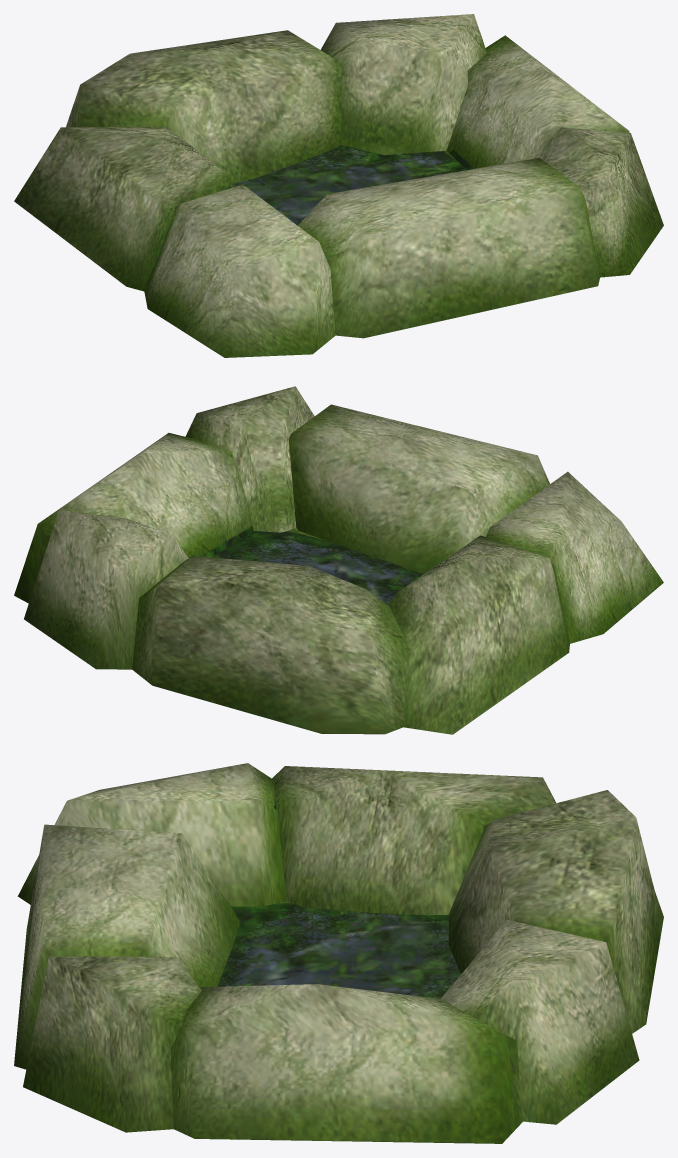
File: stwe3.dae
3 views of the same model, one above another, from view 1: azimuth 30°, elevation 25°; view 2: azimuth 150°, elevation 25°; view 3: azimuth 270°, elevation 25° (orthographic). The views are drawn at different scales.
Visible parts, largest first — view 1: well00; view 2: well00; view 3: well00.
Part boxes in pixels (x1,y1,x2,y2): well00: [14, 14, 663, 357]; well00: [14, 386, 663, 734]; well00: [14, 763, 663, 1143].
Bounding box in the file's own units: 2.07 × 1.94 × 0.4409.
Materials: 1 (1 with a texture image).
